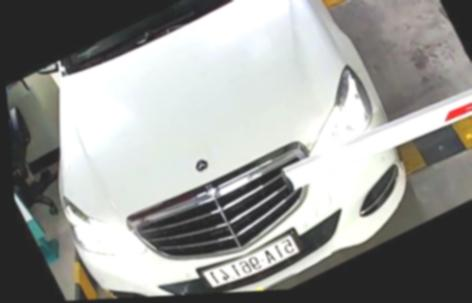License_Plate: (192, 221, 309, 290)
